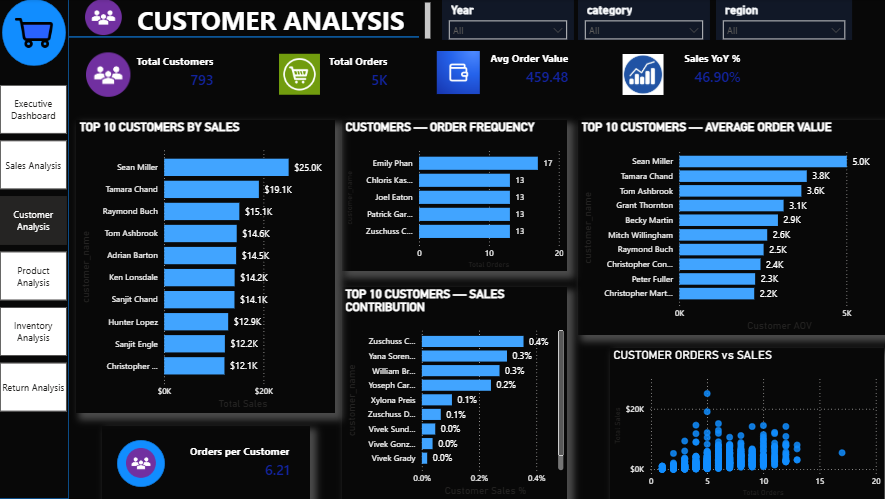

Layout of this report page (visuals, bound fields, positions):
{"tool":"powerbi","page":{"name":"Customer Analysis","canvas":[1280,720],"ordinal":2},"visuals":[{"type":"slicer","fields":{"Values":["DimDate.Year"]},"box":[638.3,0,189.8,58.8],"z":0},{"type":"cardVisual","fields":{"Data":["DimDate.Total Orders"]},"box":[378,58.8,211.7,99.4],"z":1000},{"type":"cardVisual","fields":{"Data":["DimDate.Total Customers"]},"box":[113.8,59,224.6,99.4],"z":2000},{"type":"cardVisual","fields":{"Data":["DimDate.Average Order Value"]},"box":[617.8,54.7,231.8,99.4],"z":3000},{"type":"cardVisual","fields":{"Data":["DimDate.Sales YoY %"]},"box":[879.8,54.7,217.4,99.4],"z":4000},{"type":"slicer","fields":{"Values":["public orders.region"]},"box":[1033.1,0,195.8,59],"z":5000},{"type":"slicer","fields":{"Values":["public products.category"]},"box":[833.2,0,189.8,58.8],"z":6000},{"type":"clusteredBarChart","title":"TOP 10 CUSTOMERS BY SALES","fields":{"Category":["public customers.customer_name"],"Y":["DimDate.Total Sales"]},"box":[110.9,174.7,372.9,421.6],"z":7000},{"type":"textbox","box":[102.5,0,524.1,75.6],"z":8000},{"type":"shape","box":[100.8,30.2,503.9,48.7],"z":9000},{"type":"shape","box":[0,0,100.8,720],"z":10000},{"type":"shape","box":[4.3,0,92.2,96.5],"z":11000},{"type":"shape","box":[169.7,635,69.1,67.7],"z":13000},{"type":"image","box":[126,75.6,63.8,67.2],"z":16000},{"type":"image","box":[183.1,646.7,43.2,43.2],"z":17000},{"type":"image","box":[626.6,75.6,70.6,62.2],"z":18000},{"type":"image","box":[890.3,79,75.6,58.8],"z":19000},{"type":"image","box":[13,17.3,74.9,63.4],"z":20000},{"type":"pageNavigator","box":[1.4,123.8,96.5,472.3],"z":21000},{"type":"cardVisual","fields":{"Data":["DimDate.Orders per Customer"]},"box":[147.8,614.8,299,105.8],"z":22000},{"type":"scatterChart","title":"CUSTOMER ORDERS vs SALES","fields":{"X":["DimDate.Total Orders"],"Y":["DimDate.Total Sales"],"Category":["public customers.customer_name"]},"box":[880.2,502.3,394.8,218.4],"z":23000},{"type":"clusteredBarChart","title":"TOP 10 CUSTOMERS — SALES CONTRIBUTION","fields":{"Category":["public customers.customer_name"],"Y":["DimDate.Customer Sales %"]},"box":[493.9,414.9,324.2,305.7],"z":24000},{"type":"image","box":[403.1,75.6,58.8,67.2],"z":26000},{"type":"clusteredBarChart","title":"TOP 10 CUSTOMERS — AVERAGE ORDER VALUE","fields":{"Y":["DimDate.Customer AOV"],"Category":["public customers.customer_name"]},"box":[833.2,174.7,446.8,309.1],"z":27000},{"type":"clusteredBarChart","title":" CUSTOMERS — ORDER FREQUENCY","fields":{"Category":["public customers.customer_name"],"Y":["DimDate.Total Orders"]},"box":[493.9,174.7,324.2,218.4],"z":28000},{"type":"image","box":[110.9,0,79,52.1],"z":28001}]}

Visuals, with their boxes on the page's 1280x720 design canvas (x1, y1, x2, y2). These are canvas units, not pixel positions in the 885x499 screenshot, which may show the page scaled, cropped or inside an application window:
slicer - DimDate.Year: 638 0 828 59
cardVisual - DimDate.Total Orders: 378 59 590 158
cardVisual - DimDate.Total Customers: 114 59 338 158
cardVisual - DimDate.Average Order Value: 618 55 850 154
cardVisual - DimDate.Sales YoY %: 880 55 1097 154
slicer - public orders.region: 1033 0 1229 59
slicer - public products.category: 833 0 1023 59
"TOP 10 CUSTOMERS BY SALES" clusteredBarChart: 111 175 484 596
textbox: 102 0 627 76
shape: 101 30 605 79
shape: 0 0 101 720
shape: 4 0 96 96
shape: 170 635 239 703
image: 126 76 190 143
image: 183 647 226 690
image: 627 76 697 138
image: 890 79 966 138
image: 13 17 88 81
pageNavigator: 1 124 98 596
cardVisual - DimDate.Orders per Customer: 148 615 447 721
"CUSTOMER ORDERS vs SALES" scatterChart: 880 502 1275 721
"TOP 10 CUSTOMERS — SALES CONTRIBUTION" clusteredBarChart: 494 415 818 721
image: 403 76 462 143
"TOP 10 CUSTOMERS — AVERAGE ORDER VALUE" clusteredBarChart: 833 175 1280 484
" CUSTOMERS — ORDER FREQUENCY" clusteredBarChart: 494 175 818 393
image: 111 0 190 52
